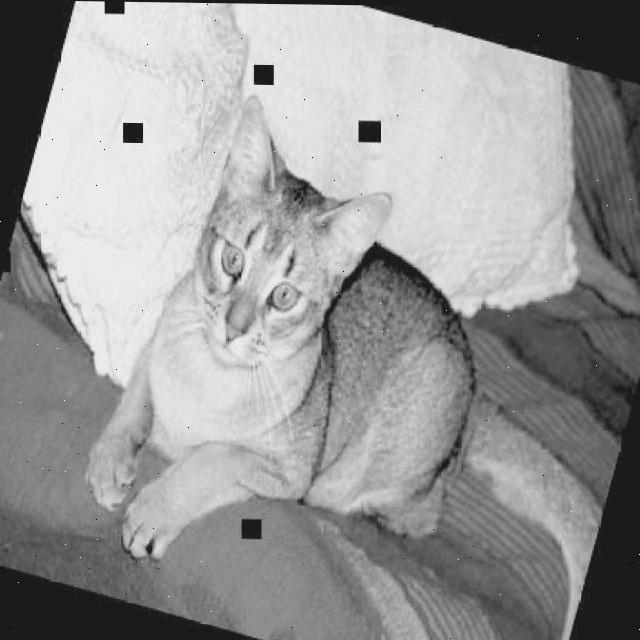Cat: (59, 71, 638, 640)
